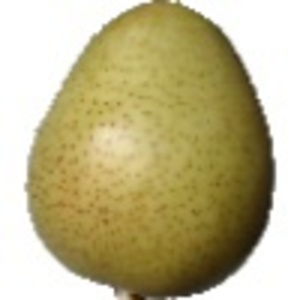pera: (24, 1, 276, 300)
